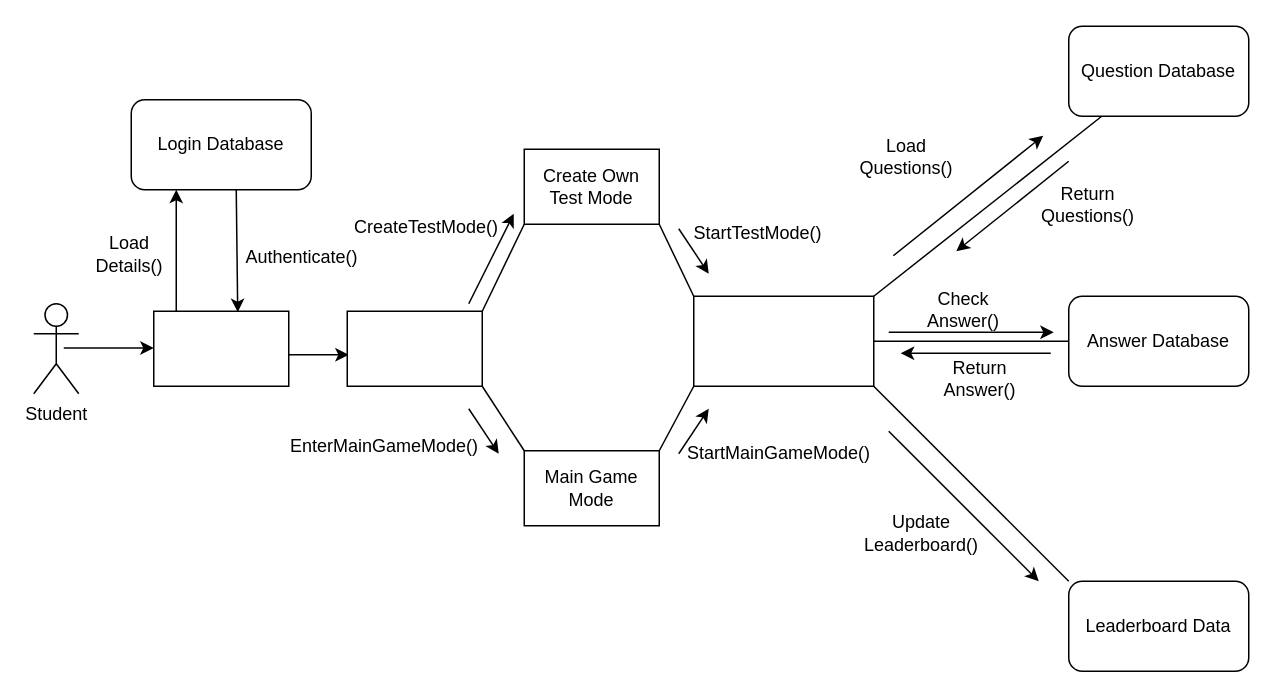
Image size: 1275x698. Some labels were removed from this diagram. Each missing label, with the box of its shape:
Gameplay: (692, 295, 874, 386)
Homepage: (346, 310, 482, 386)
Login: (152, 310, 289, 386)
